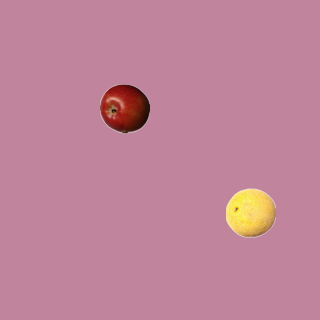Apple Braeburn: (99, 83, 149, 133)
Cantaloupe 1: (225, 187, 275, 237)
